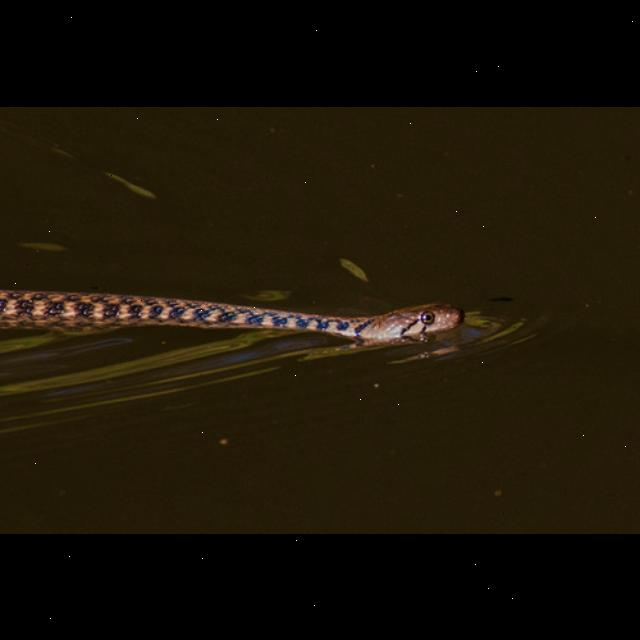snake: (0, 292, 470, 372)
